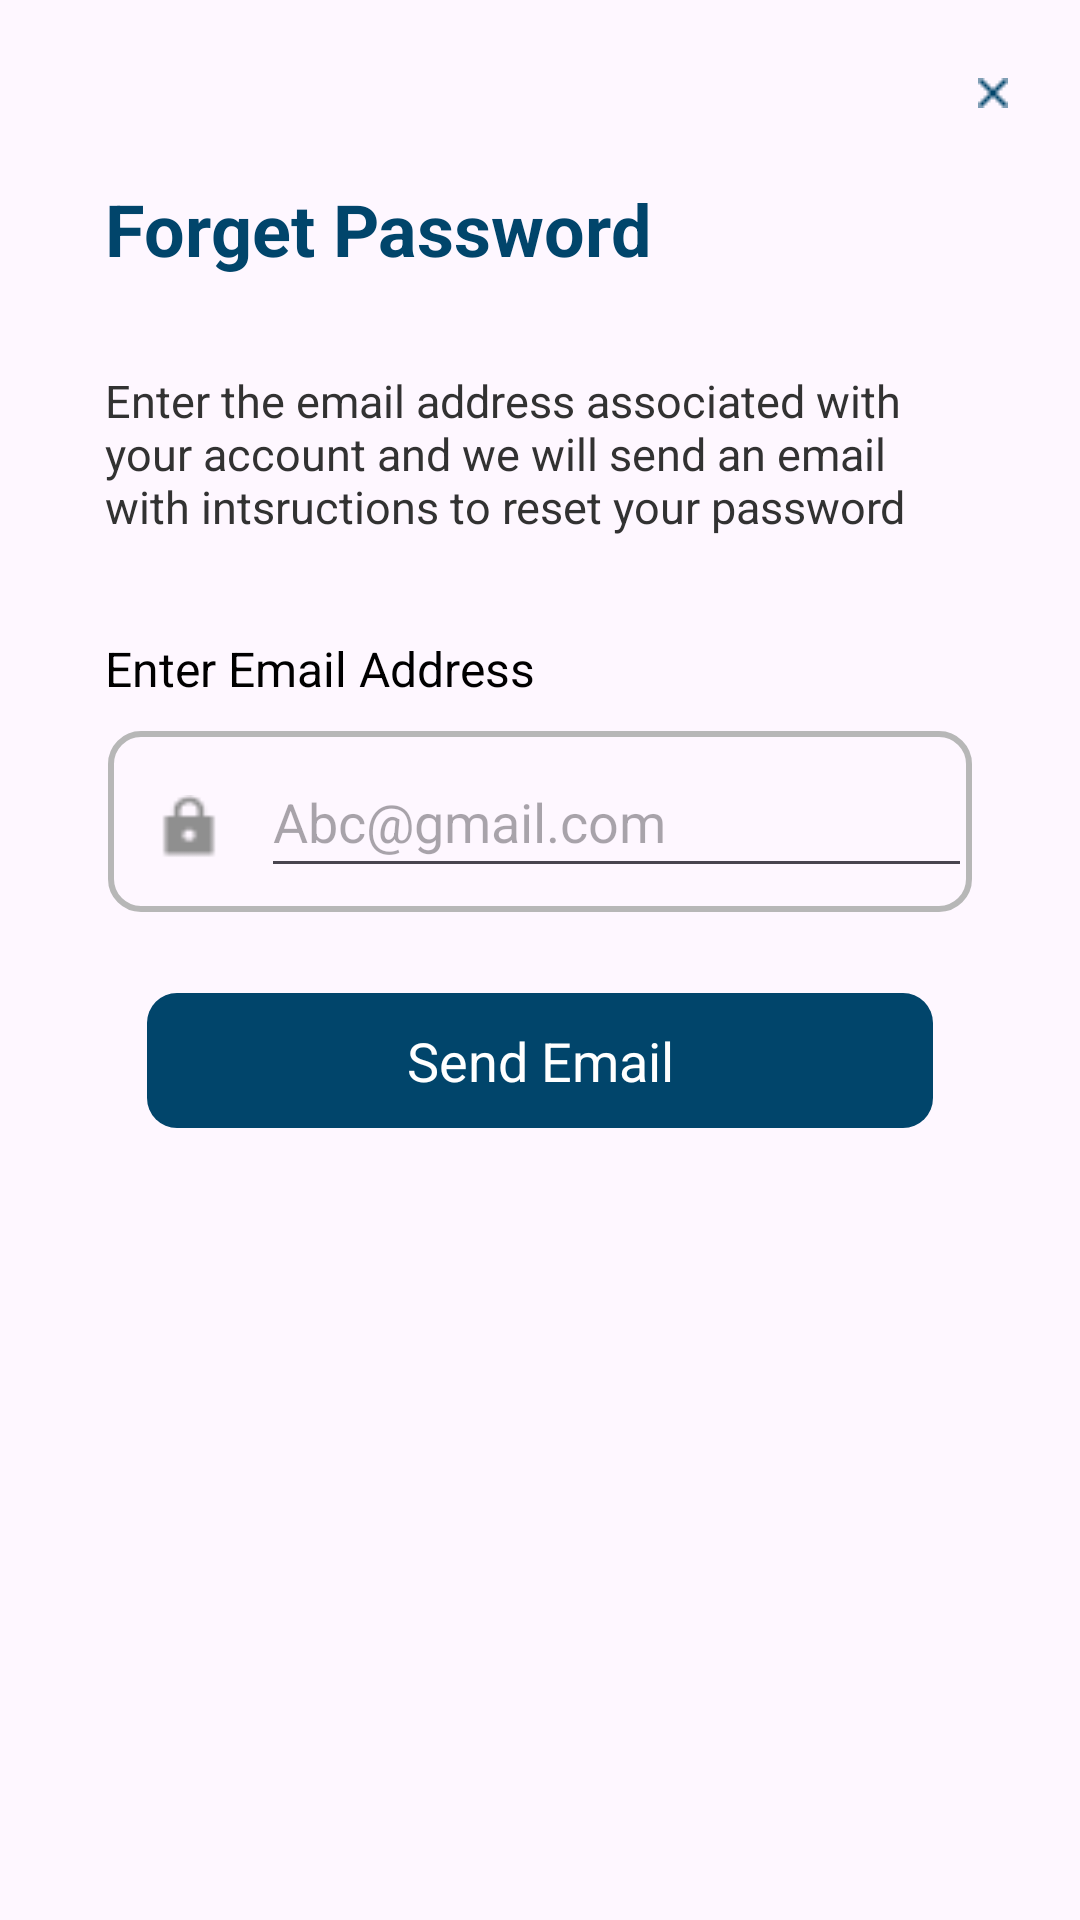

Icons on this 1080px x 1920px Android screen, each with the point to tap as point (x, y):
cancel: point (993, 93)
lock: point (189, 825)
